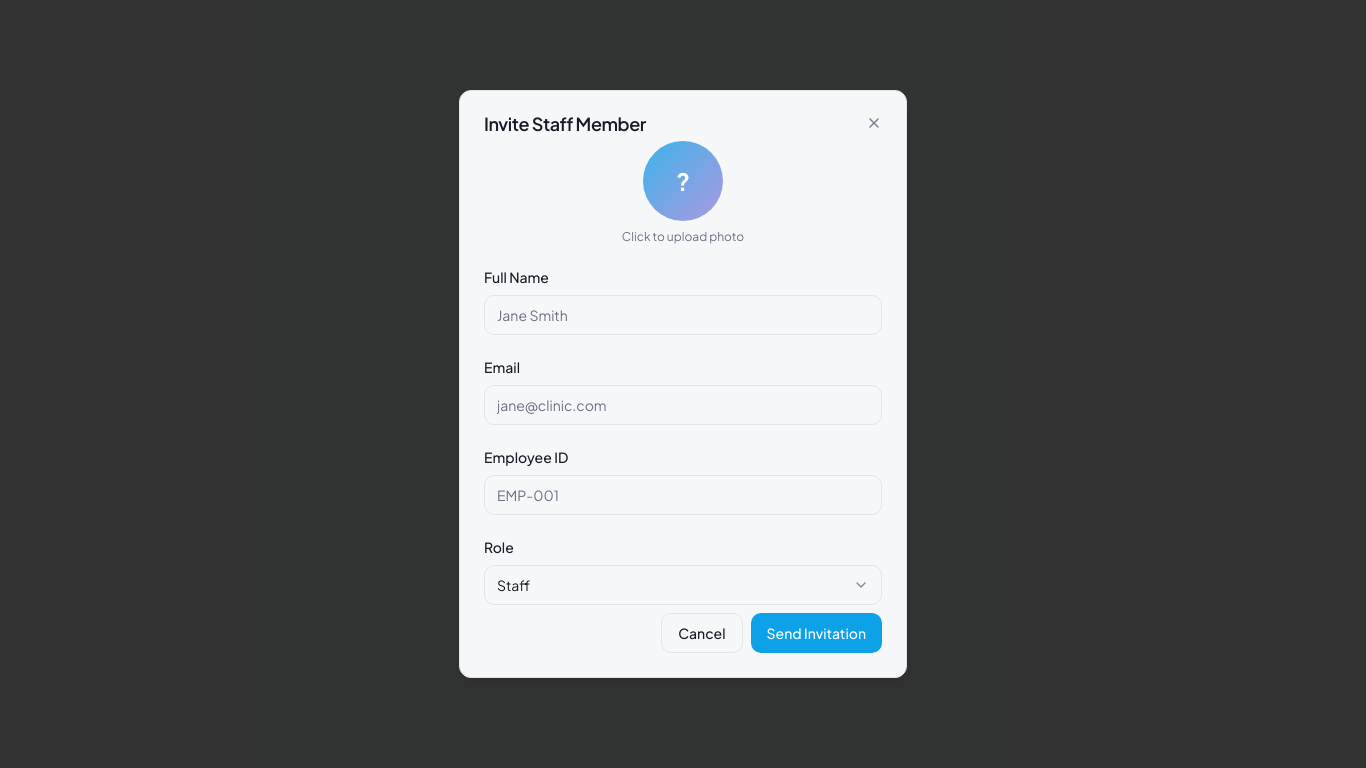
Test case: StaffFormDialog › maps server-side duplicate-email error onto the email field
The image size is (1366, 768).
In the field labelled "Full Name": (683, 315) [484,295,882,335], type "Jane Staff"
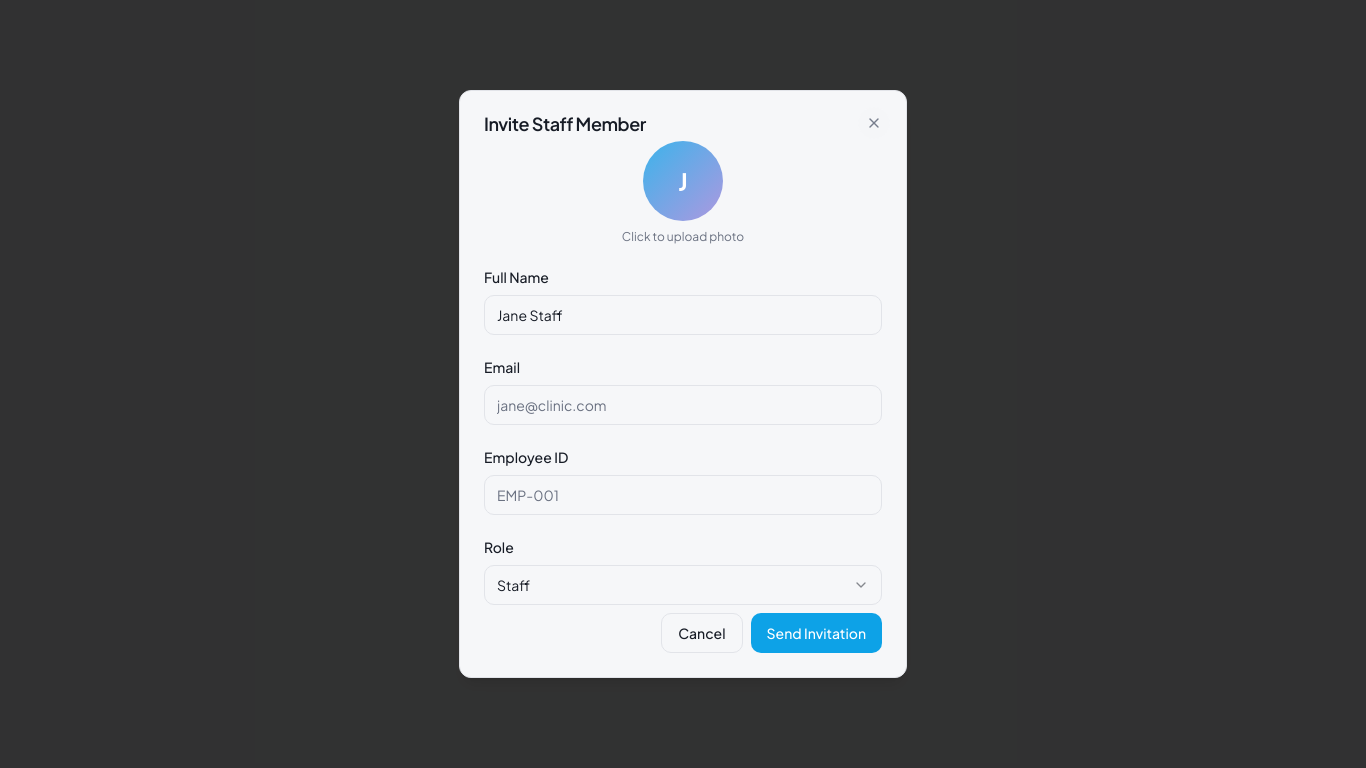
In the field labelled "Email": (683, 405) [484,385,882,425], type "jane@example.com"
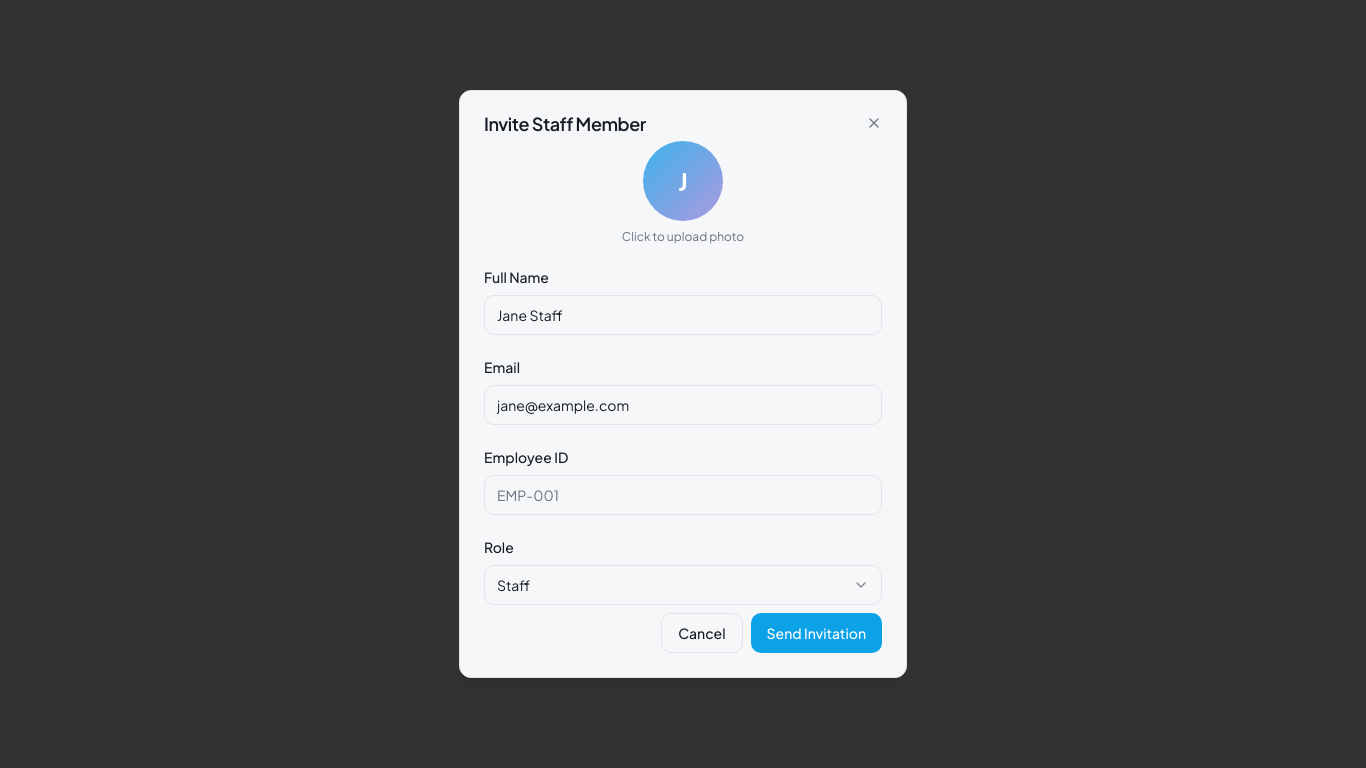
In the field labelled "Employee ID": (683, 495) [484,475,882,515], type "EMP-1"
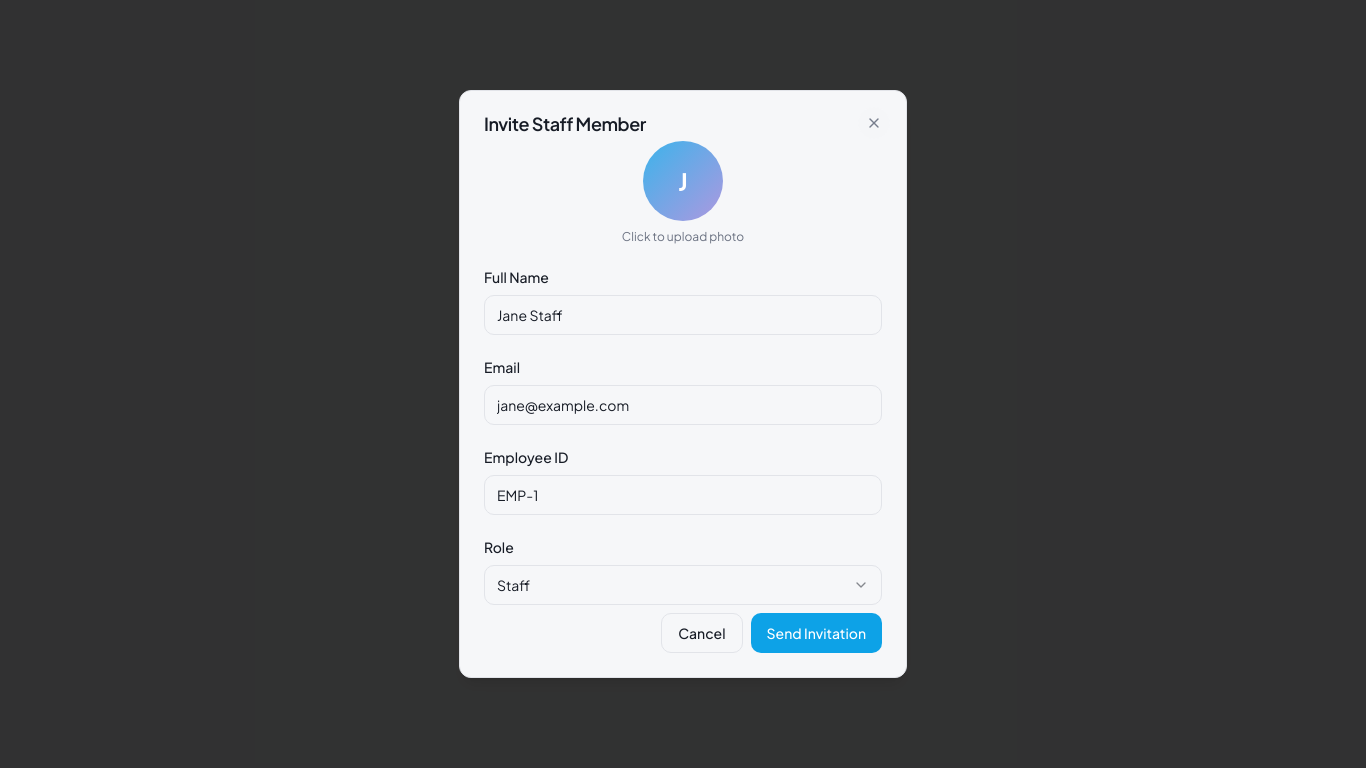
Click the button "Send Invitation": (816, 633) [750,613,882,653]
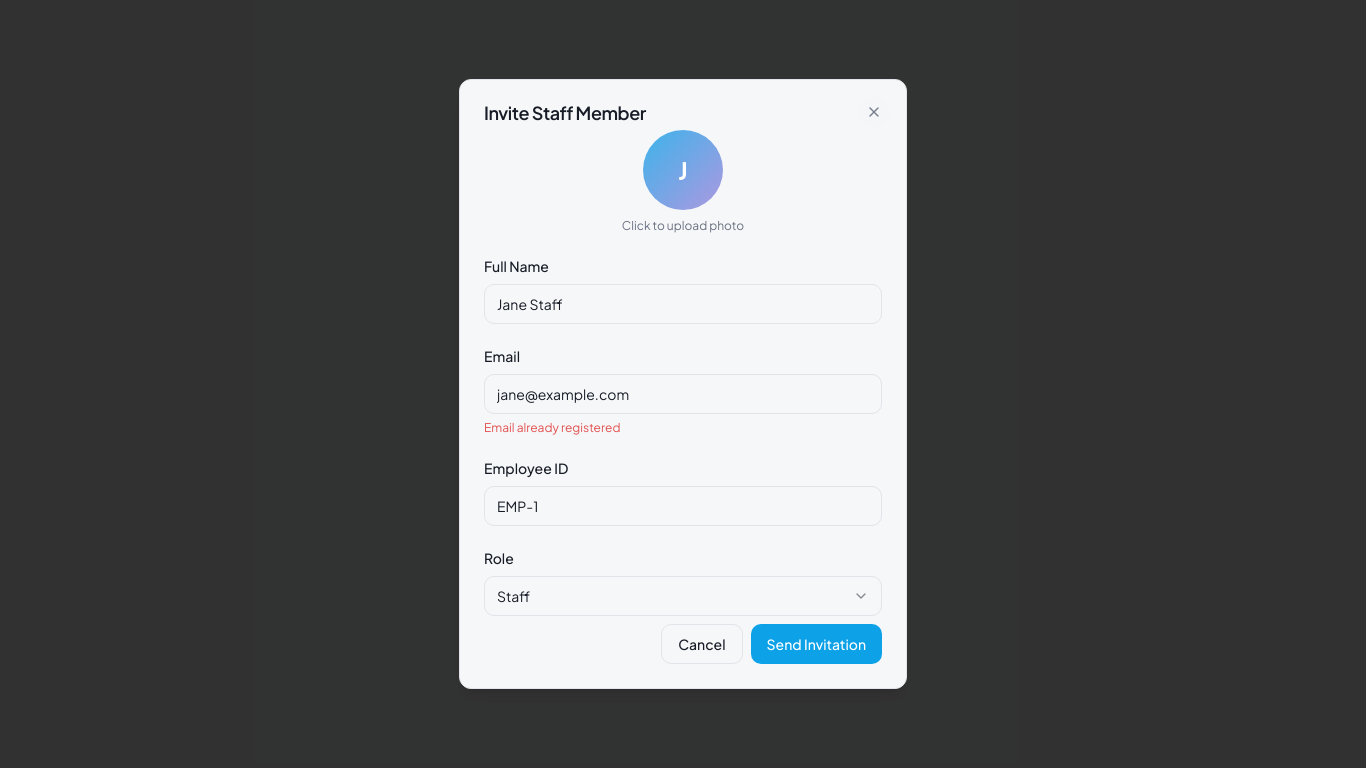
Check: the text "Email already registered" is shown, box [484,420,620,435]
